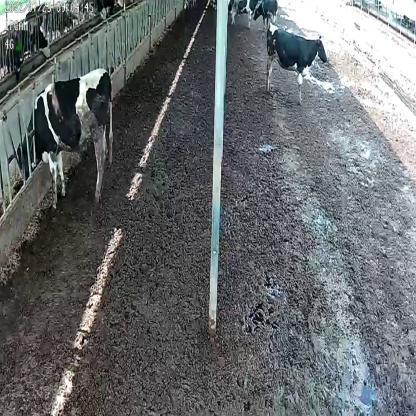cow: (15, 67, 113, 208), (264, 19, 328, 106), (253, 0, 279, 25)
